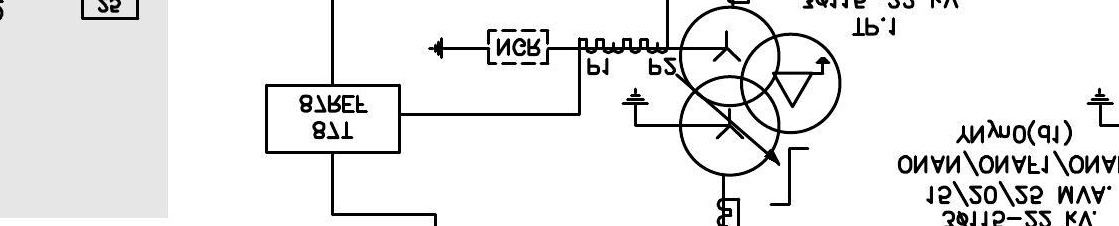11522_tx_ynyn0d1: (678, 4, 843, 178)
NGR_future: (428, 28, 550, 66)
